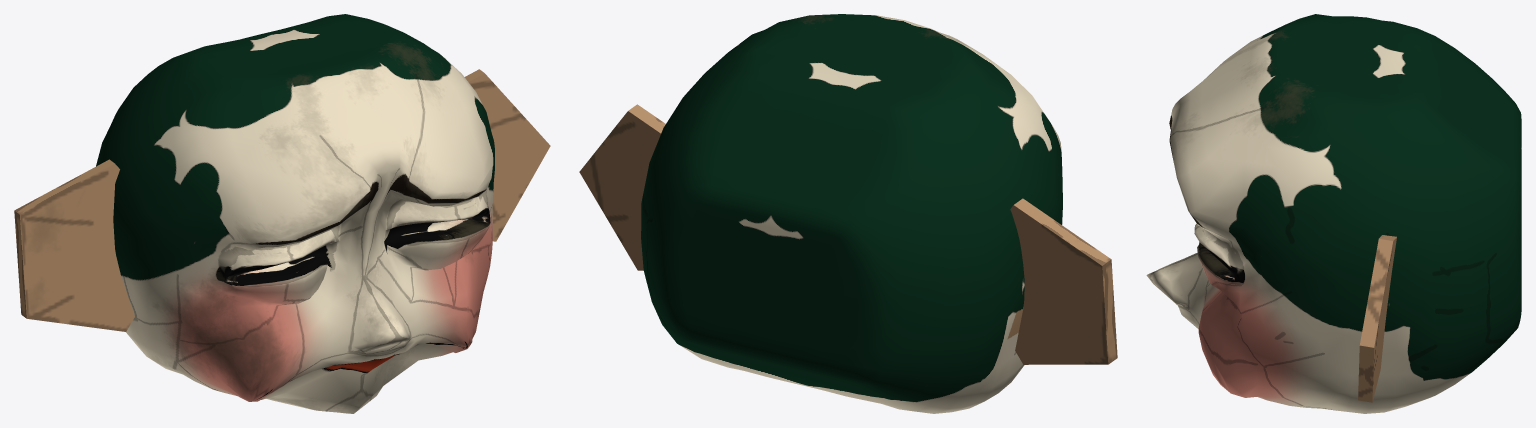
Rendered from stage_5.fbx.
The picture shows the model from 3 angles, left to right: view 1: azimuth 30°, elevation 25°; view 2: azimuth 150°, elevation 25°; view 3: azimuth 270°, elevation 25°; orthographic projection. The views are drawn at different scales.
Parts seen in each view (by area): view 1: stage_5, Ear, Ear1; view 2: stage_5, Ear, Ear1; view 3: stage_5, Ear1.
Part boxes in pixels (x1=…): stage_5: x1=96, y1=14, x2=494, y2=413; Ear: x1=14, y1=159, x2=134, y2=331; Ear1: x1=464, y1=69, x2=550, y2=241; stage_5: x1=641, y1=14, x2=1062, y2=413; Ear: x1=1010, y1=198, x2=1117, y2=364; Ear1: x1=579, y1=104, x2=665, y2=270; stage_5: x1=1146, y1=14, x2=1521, y2=413; Ear1: x1=1358, y1=235, x2=1396, y2=402.
Bounding box in the file's own units: 65.91 × 40.95 × 41.34.
